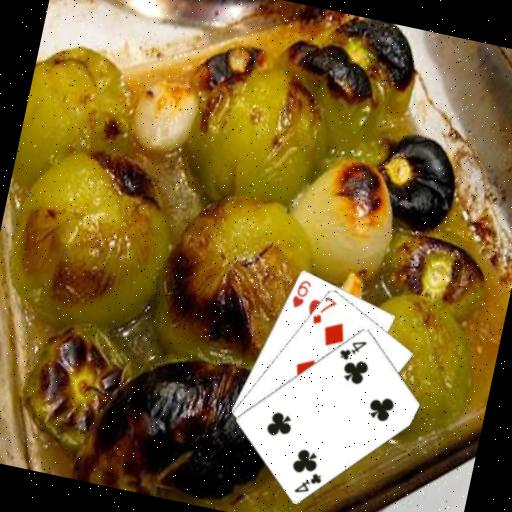4C: (290, 465, 324, 498), (335, 333, 369, 365)
6H: (287, 274, 314, 311)
7D: (308, 291, 338, 329)
